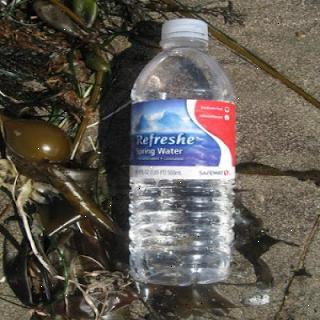Plastic-bottle: (121, 16, 243, 292)
